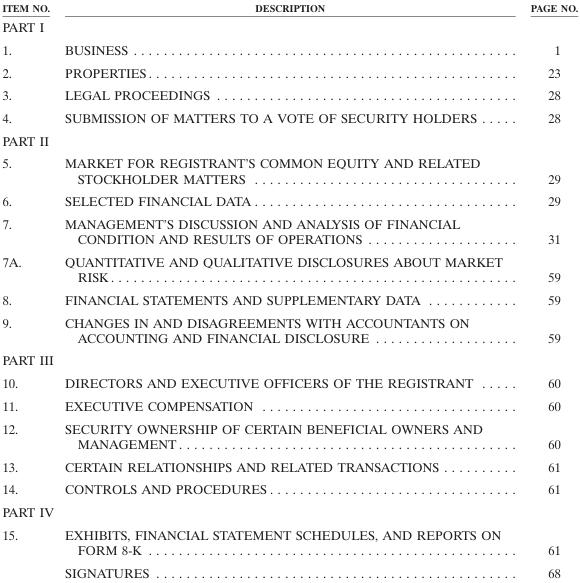table: (1, 1, 577, 579)
table column: (56, 1, 515, 579), (515, 1, 577, 579), (1, 1, 56, 579)
table column header: (1, 1, 577, 16)
table projected row header: (1, 128, 577, 151), (1, 348, 577, 371), (1, 16, 577, 38), (1, 500, 577, 522)
table row: (1, 151, 577, 189), (1, 212, 577, 250), (1, 250, 577, 288), (1, 310, 577, 348), (1, 416, 577, 454), (1, 522, 577, 560), (1, 60, 577, 83), (1, 83, 577, 106), (1, 128, 577, 151), (1, 189, 577, 212), (1, 348, 577, 371), (1, 371, 577, 394), (1, 454, 577, 477), (1, 477, 577, 500), (1, 16, 577, 38), (1, 38, 577, 60), (1, 106, 577, 128), (1, 288, 577, 310), (1, 394, 577, 416), (1, 500, 577, 522), (1, 560, 577, 579), (1, 1, 577, 16)
table spanning cell: (1, 522, 56, 579)
